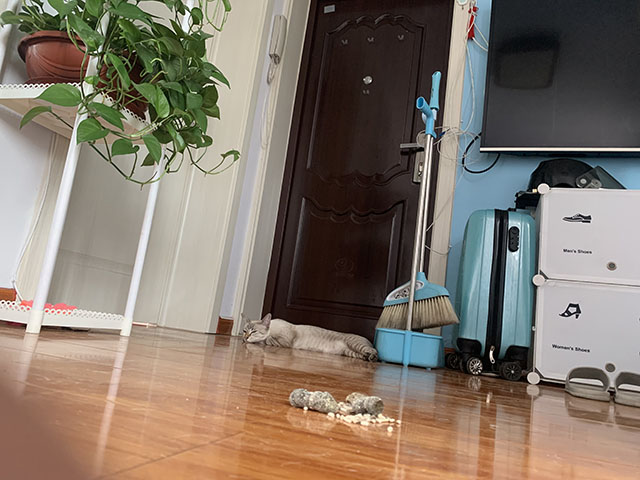cabinet: (525, 183, 640, 397)
feces: (287, 387, 383, 416)
slippers: (562, 366, 640, 410)
